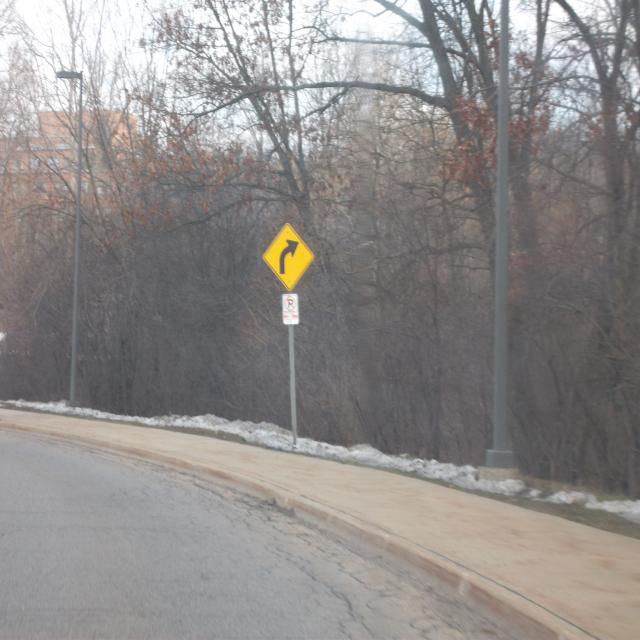regulatory: (282, 292, 300, 324)
warning: (263, 223, 314, 290)
